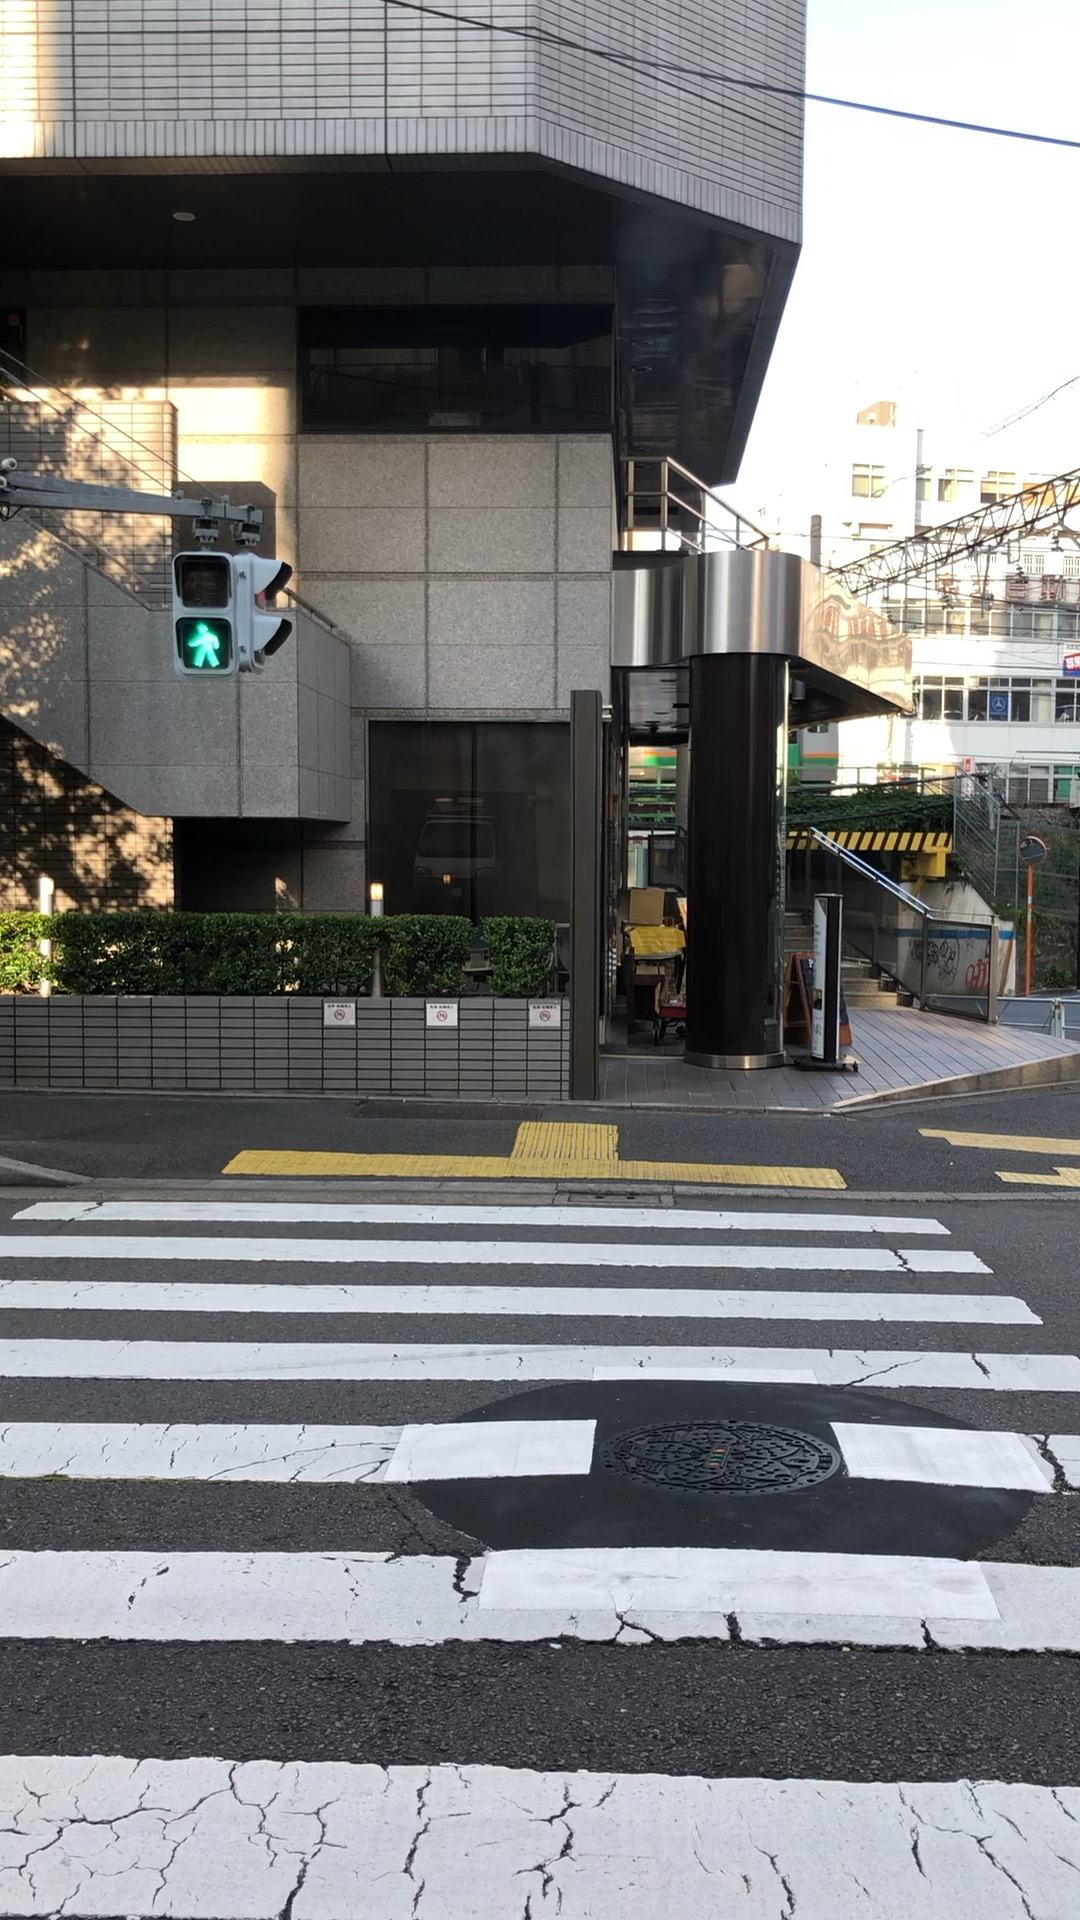green: (170, 549, 240, 674)
